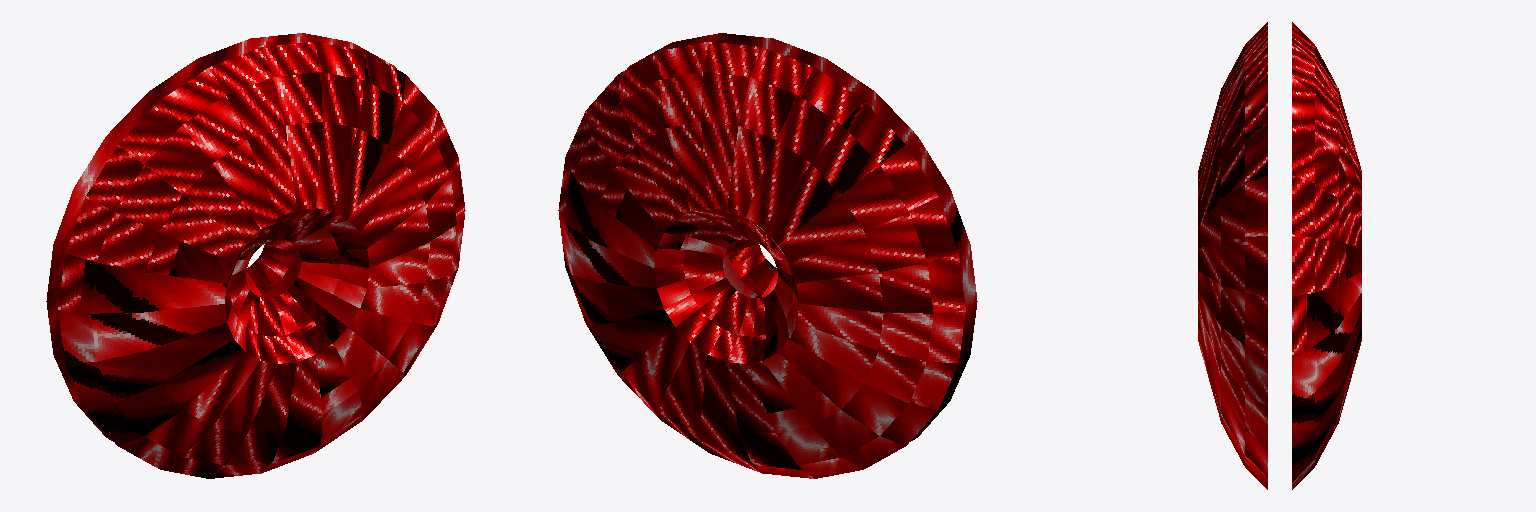
3 views of the same model, side by side, from view 1: azimuth 30°, elevation 25°; view 2: azimuth 150°, elevation 25°; view 3: azimuth 270°, elevation 25° (orthographic).
Parts seen in each view (by area): view 1: Mesh2 Group2 Model, Mesh1 Group1 Model; view 2: Mesh1 Group1 Model, Mesh2 Group2 Model; view 3: Mesh1 Group1 Model, Mesh2 Group2 Model.
Part boxes in pixels (bbox=[...]): Mesh2 Group2 Model: bbox=[58, 42, 465, 478]; Mesh1 Group1 Model: bbox=[46, 33, 396, 441]; Mesh1 Group1 Model: bbox=[558, 42, 965, 478]; Mesh2 Group2 Model: bbox=[627, 33, 977, 441]; Mesh1 Group1 Model: bbox=[1292, 22, 1361, 489]; Mesh2 Group2 Model: bbox=[1198, 22, 1267, 489].
Size of the model in its own units: 20 by 20 by 7.
1 materials, 1 textured.